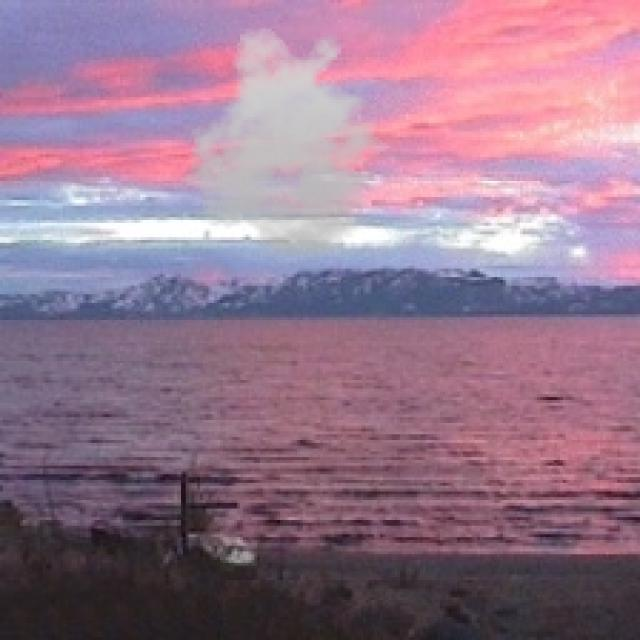smoke: (177, 26, 400, 260)
